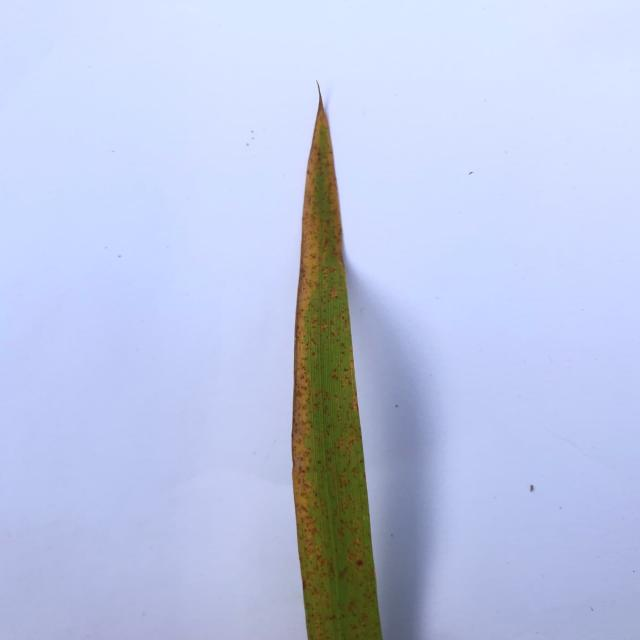tungro: (291, 94, 331, 617)
